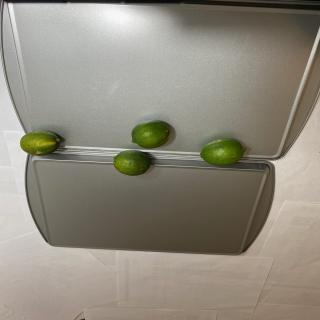Apple: (20, 130, 60, 156)
Lemon: (200, 138, 246, 166), (131, 120, 170, 149), (114, 149, 150, 176)
